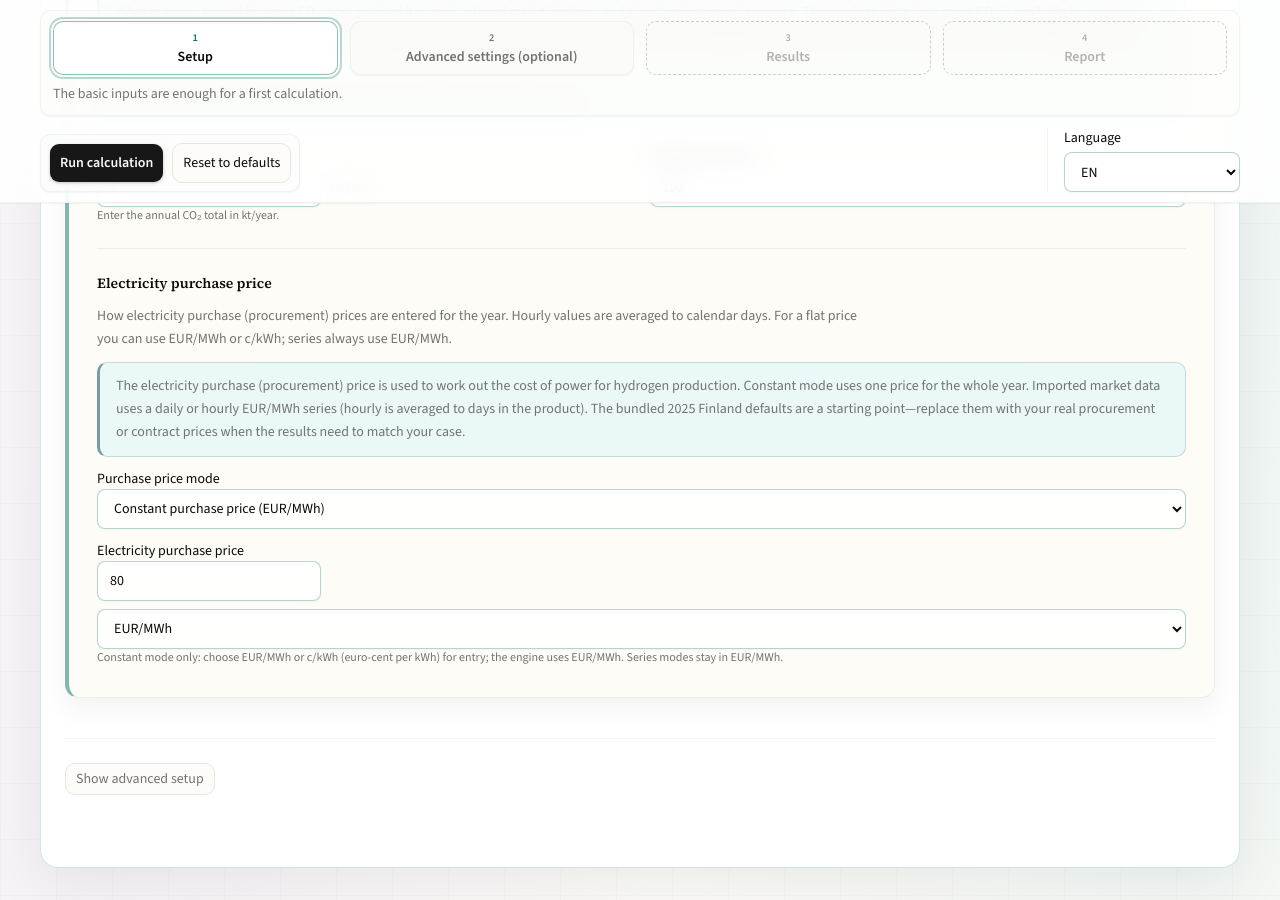
Test: WP17 – advanced assumptions transparency UX › shows literature-based defaults and metadata before any override
The width and height of the screenshot is (1280, 900).
(page scrolled)
Expected: the button "Run calculation" is shown, [49,143,164,183]
Click the button with test id "toggle-advanced-setup" at (140,779), box [65,763,215,795]
(page scrolled)
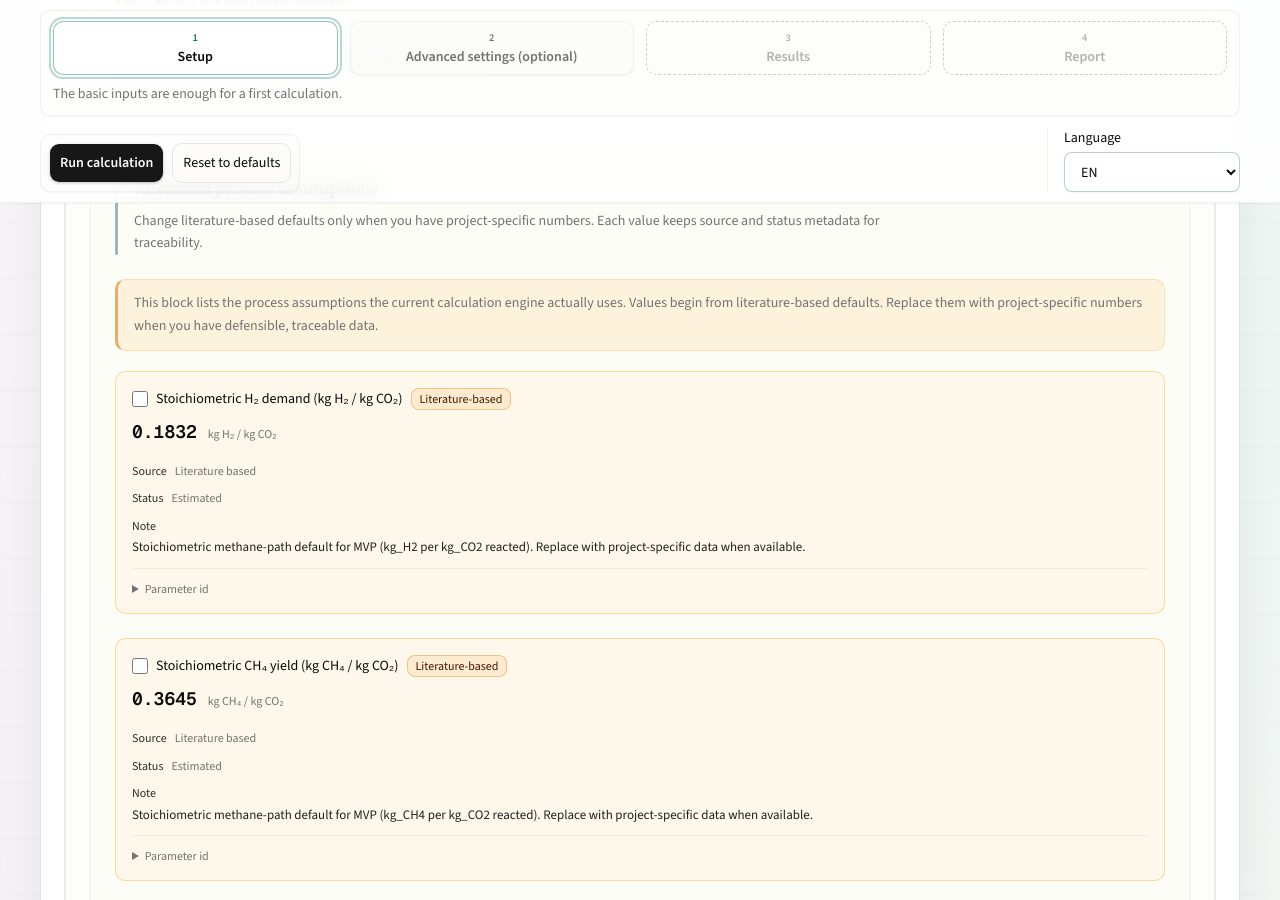
Now the text "Literature-based" is shown 3 times
Now the text "0.1832" is shown, box [132,420,197,443]
Now the text "0.3645" is shown, box [132,687,197,710]
